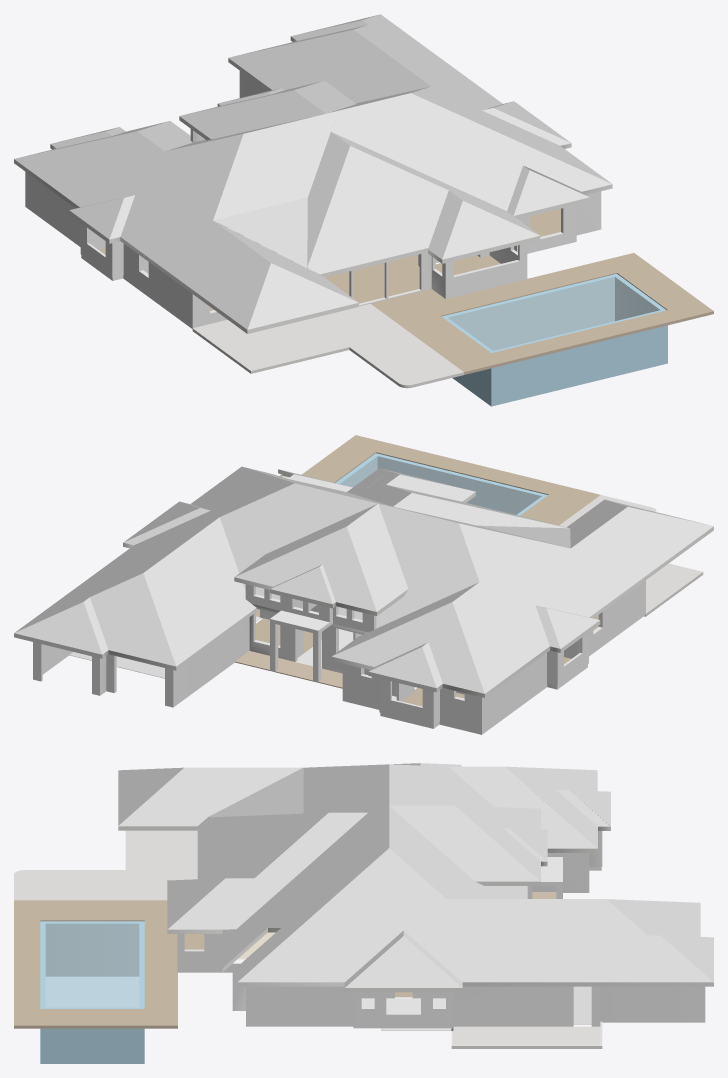
The picture shows the model from 3 angles, top to bottom: view 1: azimuth 30°, elevation 25°; view 2: azimuth 150°, elevation 25°; view 3: azimuth 270°, elevation 25°; orthographic projection. The views are drawn at different scales.
Parts seen in each view (by area): view 1: RT - 002 26, SLA - 004 7, RT - 002 13, RT - 002 4, SLA - 004 6, RT - 002 21, RT - 002 19, SLA - 004 8, SW - 017 1, SW - 015 1, RT - 002 7, RT - 002 3 (+28 smaller); view 2: RT - 002 26, RT - 002 20, RT - 002 21, RT - 002 7, SLA - 004 7, RT - 002 35, RT - 002 28, RT - 002 3, RT - 002 38, RT - 002 31, SW - 017 1, SLA - 004 8 (+37 smaller); view 3: RT - 002 3, RT - 002 18, SLA - 004 7, SLA - 004 6, SLA - 004 8, RT - 002 20, RT - 002 6, RT - 002 13, RT - 002, RT - 002 4, RT - 002 37, SW - 016 1 (+32 smaller).
Boxes of the visible parts, x1,y1,x2,y2 form: RT - 002 26: (120,134,270,333); SLA - 004 7: (371,253,713,374); RT - 002 13: (331,93,529,210); RT - 002 4: (307,146,448,277); SLA - 004 6: (192,303,463,388); RT - 002 21: (228,29,430,103); RT - 002 19: (213,111,337,220); SLA - 004 8: (448,277,659,350); SW - 017 1: (491,310,667,406); SW - 015 1: (442,274,616,350); RT - 002 7: (14,131,153,208); RT - 002 3: (354,14,502,110); RT - 002 26: (459,507,713,618); RT - 002 20: (219,483,479,628); RT - 002 21: (143,517,256,670); RT - 002 7: (452,590,549,697); SLA - 004 7: (301,435,600,525); RT - 002 35: (234,526,376,615); RT - 002 28: (90,573,176,670); RT - 002 3: (15,510,223,632); RT - 002 38: (347,504,408,615); RT - 002 31: (419,602,484,697); SW - 017 1: (376,453,547,514); SLA - 004 8: (340,456,541,514); RT - 002 3: (404,896,713,986); RT - 002 18: (237,848,442,986); SLA - 004 7: (14,900,177,1028); SLA - 004 6: (14,830,197,900); SLA - 004 8: (46,924,138,1007); RT - 002 20: (389,764,527,898); RT - 002 6: (167,812,367,933); RT - 002 13: (237,812,389,929); RT - 002: (118,767,302,830); RT - 002 4: (197,812,328,879); RT - 002 37: (389,805,540,885); SW - 016 1: (40,921,143,976).
Size of the model in its own units: 25.81 by 8.83 by 32.57.
